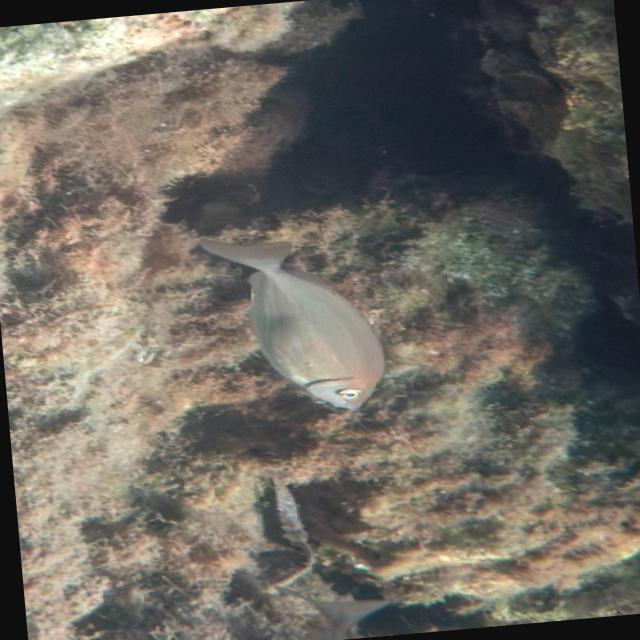Sokar Baligi: (186, 216, 402, 427)
